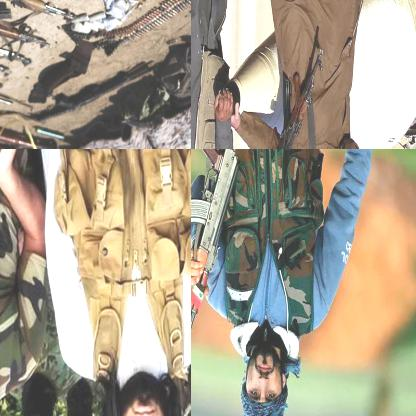rifle: (191, 149, 239, 393), (31, 66, 156, 122), (272, 45, 325, 148), (0, 0, 57, 52), (0, 15, 34, 68), (0, 31, 21, 74)
